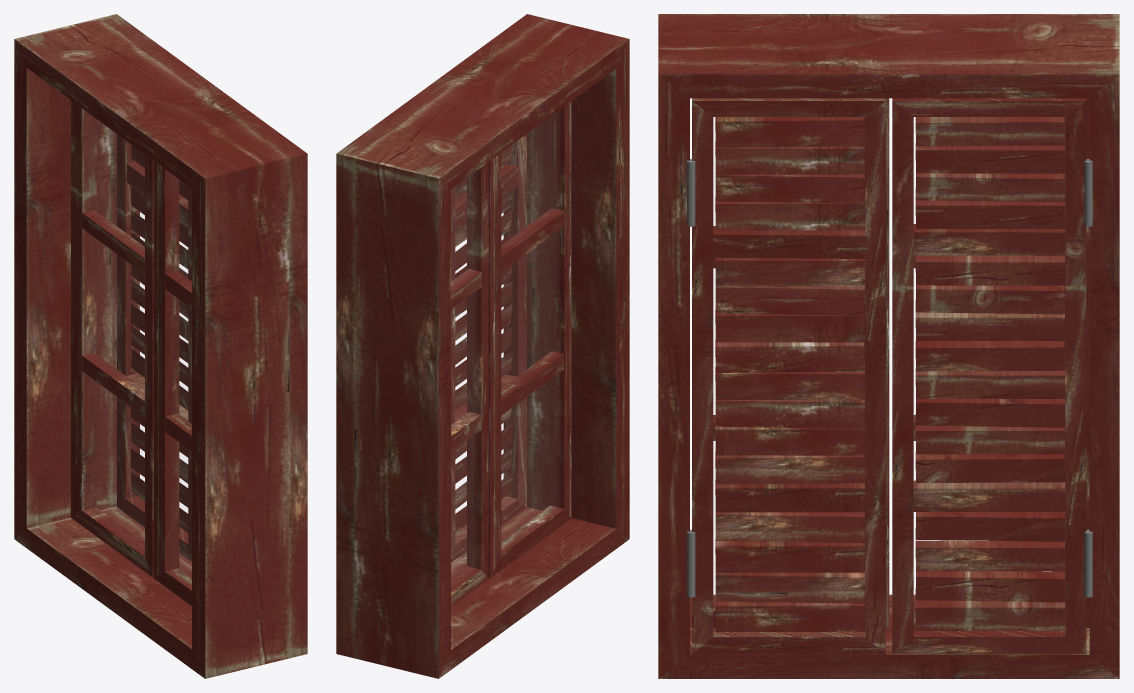
The model's file is OldHouseWindowWoodDarkRed.obj.
3 renders of one model, left to right at view 1: azimuth 30°, elevation 25°; view 2: azimuth 150°, elevation 25°; view 3: azimuth 270°, elevation 25°, orthographic. The views are drawn at different scales.
Visible parts, largest first — view 1: Rectangle02, Rectangle05, Rectangle04, Rectangle01; view 2: Rectangle02, Rectangle01, Rectangle03, Rectangle05; view 3: Rectangle04, Rectangle03, Rectangle02, Rectangle01, Rectangle05.
Part boxes in pixels (left/top/right/bottom): Rectangle02: left=14, top=14, right=307, bottom=678; Rectangle05: left=71, top=100, right=153, bottom=577; Rectangle04: left=117, top=134, right=191, bottom=561; Rectangle01: left=153, top=161, right=191, bottom=605; Rectangle02: left=336, top=14, right=629, bottom=678; Rectangle01: left=488, top=101, right=571, bottom=578; Rectangle03: left=451, top=134, right=526, bottom=562; Rectangle05: left=451, top=162, right=488, bottom=606; Rectangle04: left=892, top=98, right=1086, bottom=654; Rectangle03: left=692, top=98, right=885, bottom=654; Rectangle02: left=658, top=14, right=1119, bottom=678; Rectangle01: left=713, top=98, right=889, bottom=628; Rectangle05: left=913, top=98, right=1089, bottom=628.
Bounding box in the file's own units: 0.3548 × 1.6 × 1.11.
Materials: 3 (1 with a texture image).
